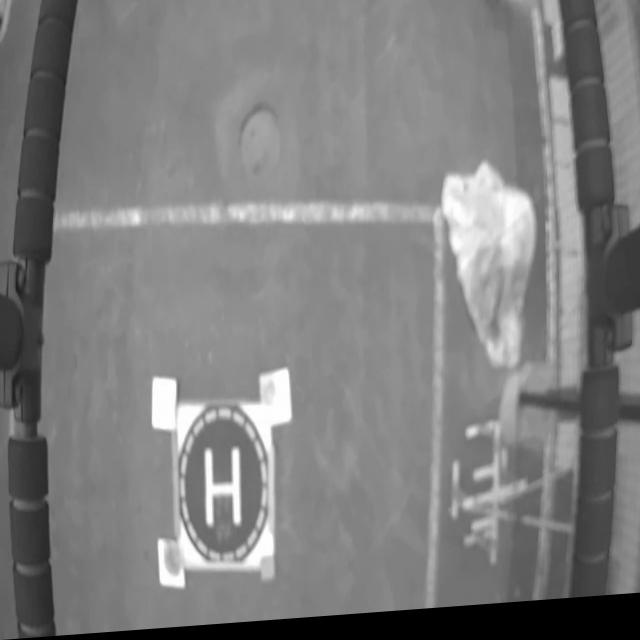Helipad: (205, 450, 241, 531)
